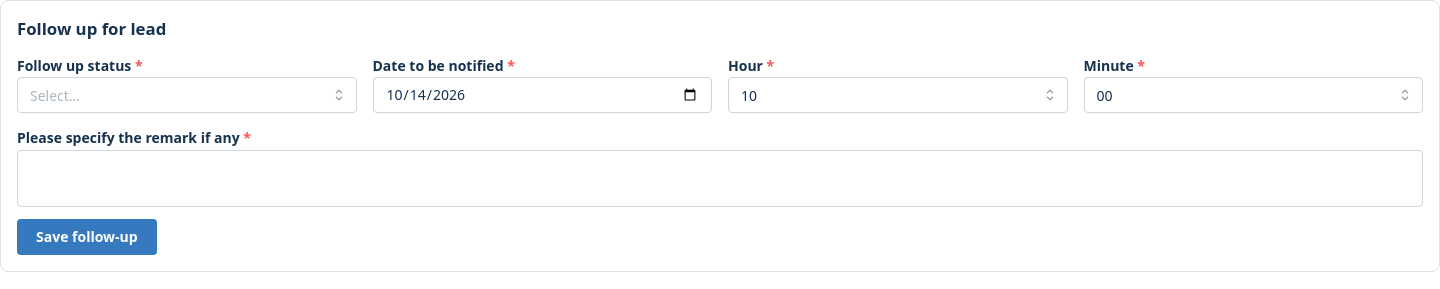
Test: after saving › keeps a follow-up on screen, and will not save the same one twice
Expected: the heading "Follow up for lead" is shown, [17,17,166,40]
Click the dropdown labelled "Follow up status" at (187, 95), box [17,77,356,113]
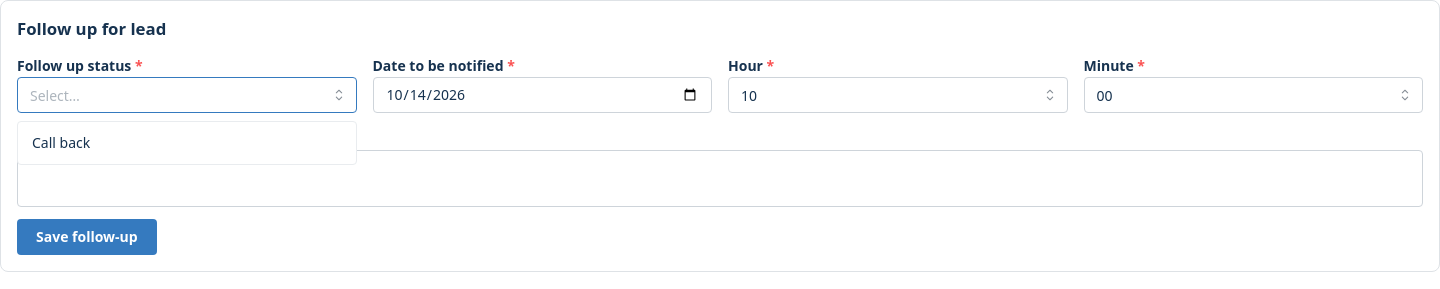
Click the option "Call back" at (61, 143), box [32,133,90,152]
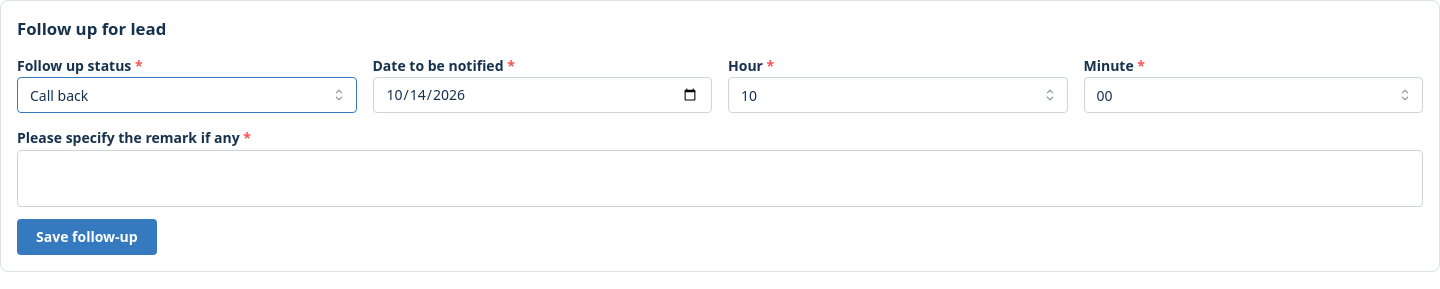
Type "After the site visit" into the text box labelled "Please specify the remark if any" at (720, 179), box [17,150,1423,207]
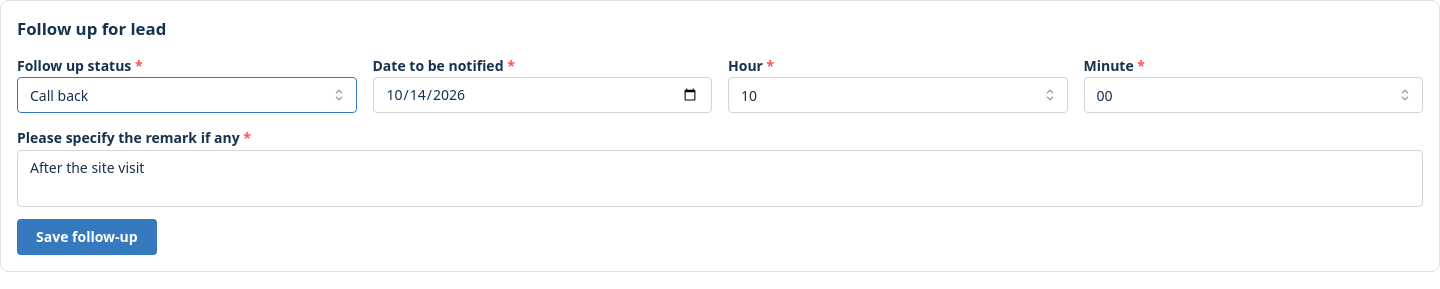
Click the button "Save follow-up" at (87, 237), box [17,219,157,255]
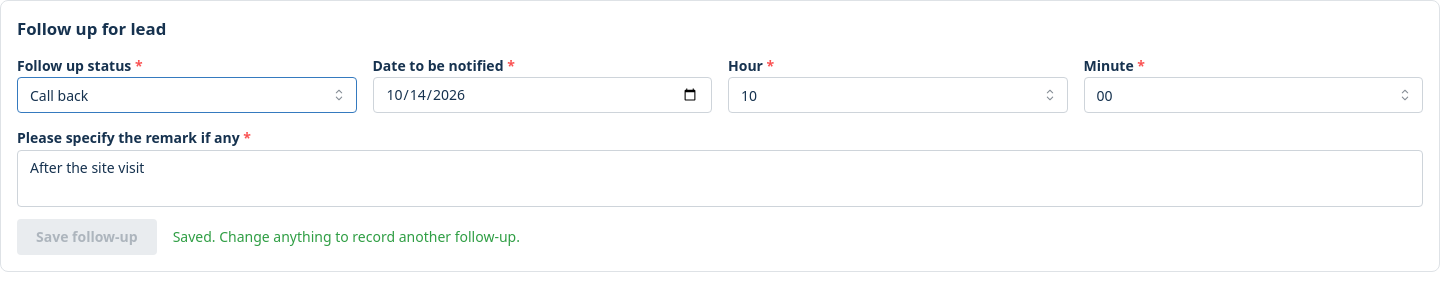
Expected: the text "Saved. Change anything to record another follow-up." is shown, [173,227,520,247]
Expected: the button "Save follow-up" is disabled, [17,219,157,255]
Replace the text in the text box labelled "Please specify the remark if any" with "Customer asked to call on Monday" at (720, 179), box [17,150,1423,207]
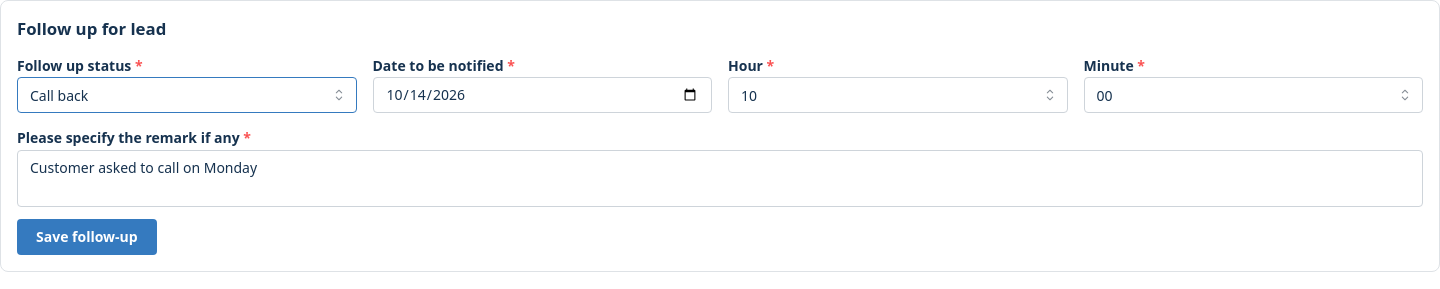
Expected: the button "Save follow-up" is enabled, [17,219,157,255]
